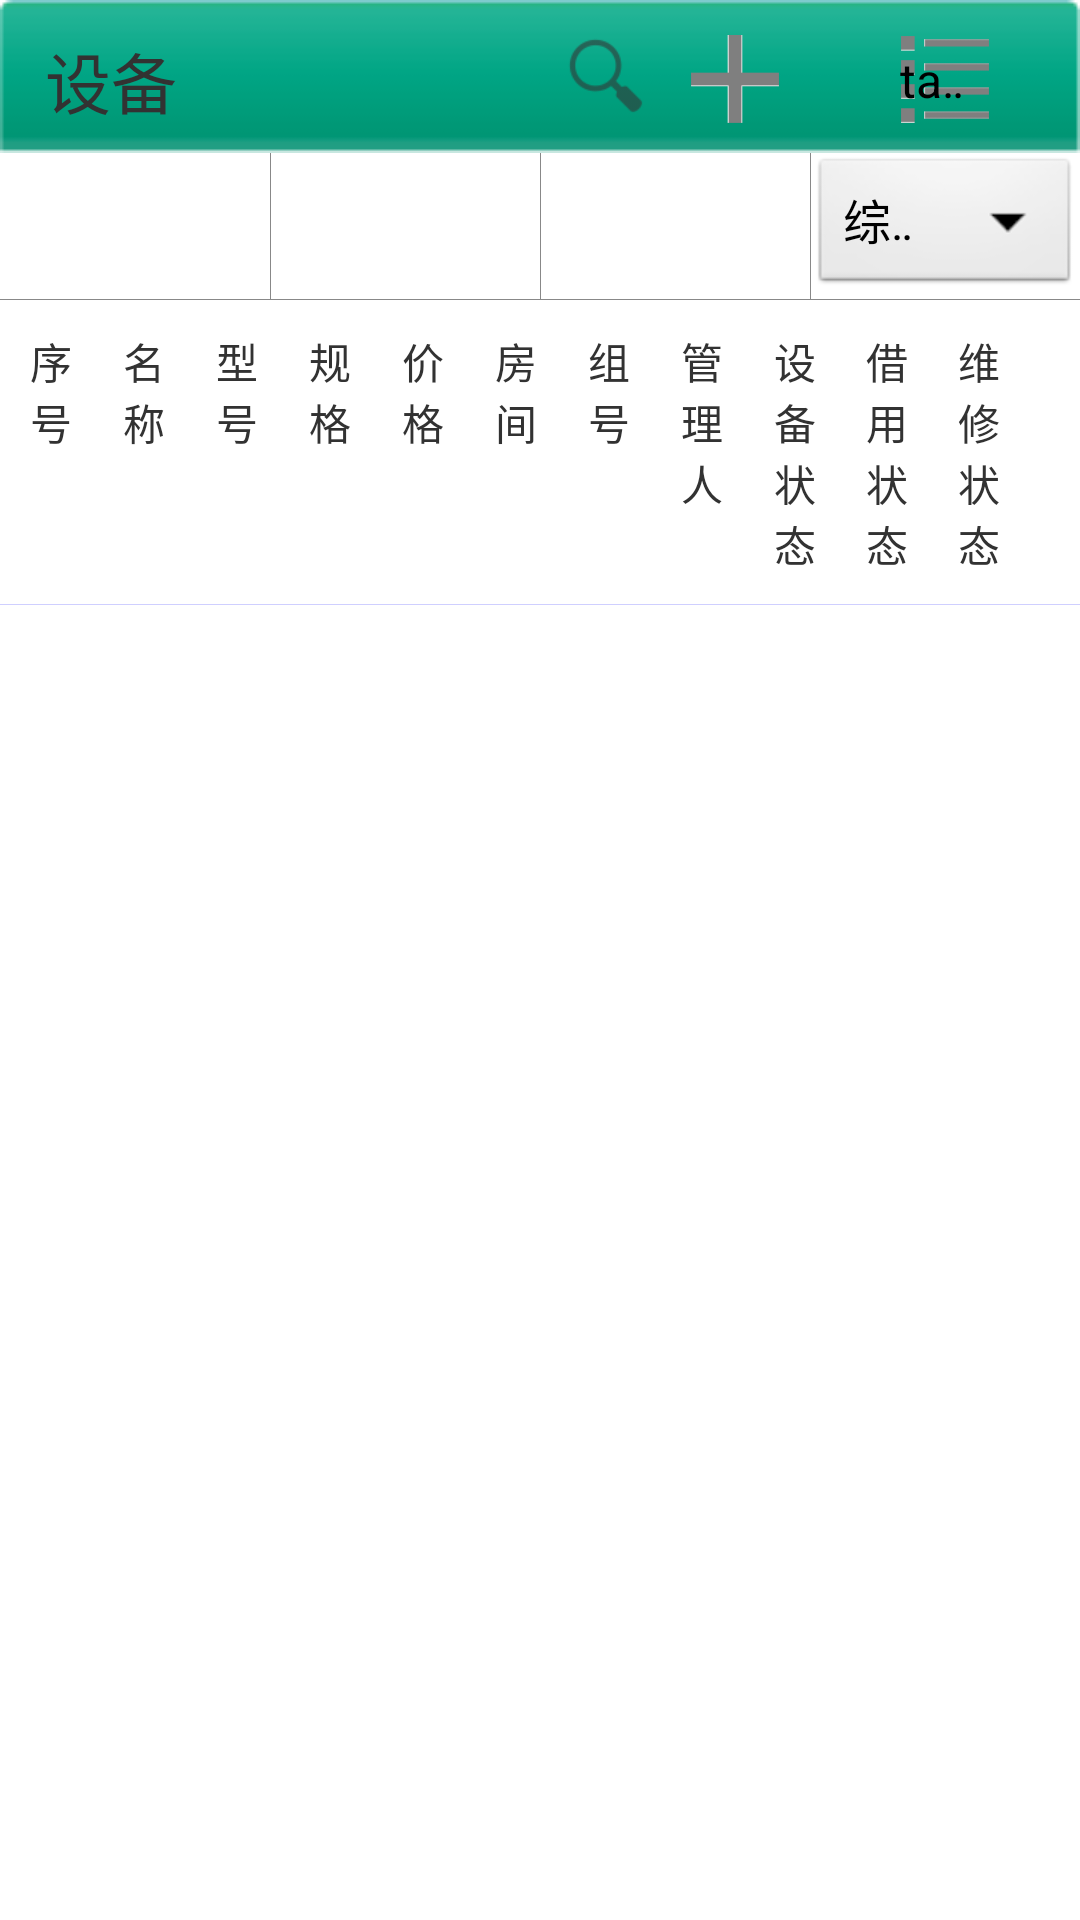

Named icons in this screenshot (1080×1920) and their bounding boxes, (x1, y1, x2, y2):
add: (690, 35, 780, 123)
